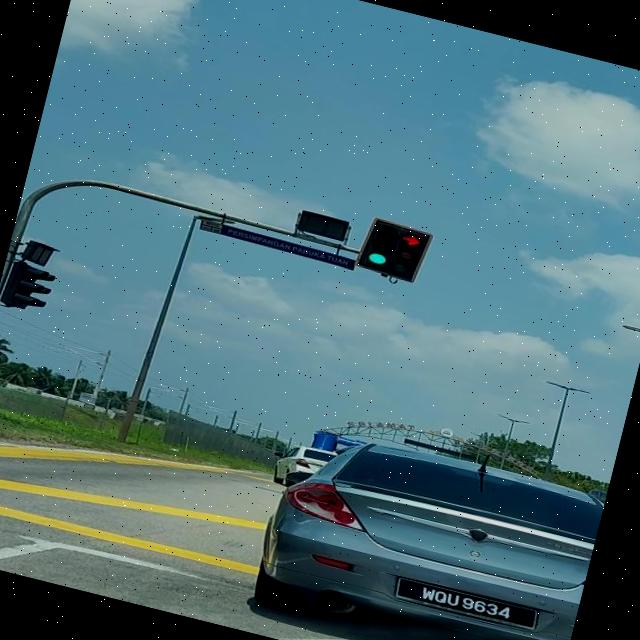green_light: (356, 215, 398, 272)
red_light: (382, 225, 430, 283)
